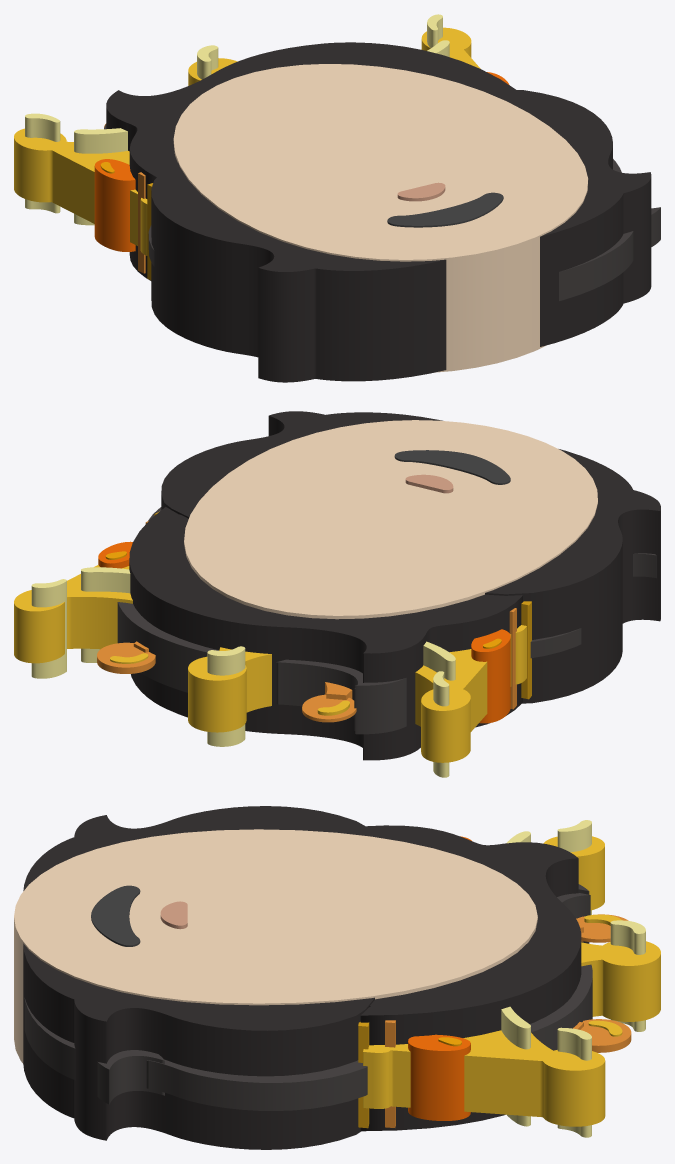
Rendered from emoji_u1fac5_1f3fb.glb.
3 renders of one model, top to bottom at view 1: azimuth 30°, elevation 25°; view 2: azimuth 150°, elevation 25°; view 3: azimuth 270°, elevation 25°, orthographic. The views are drawn at different scales.
Parts seen in each view (by area): view 1: emoji_u1fac5_1f3fb; view 2: emoji_u1fac5_1f3fb; view 3: emoji_u1fac5_1f3fb.
Part boxes in pixels (x1,y1,x2,y2): emoji_u1fac5_1f3fb: (14,14,660,382); emoji_u1fac5_1f3fb: (14,411,660,777); emoji_u1fac5_1f3fb: (14,806,660,1149).
Bounding box in the file's own units: 0.0289 × 0.0074 × 0.0335.
